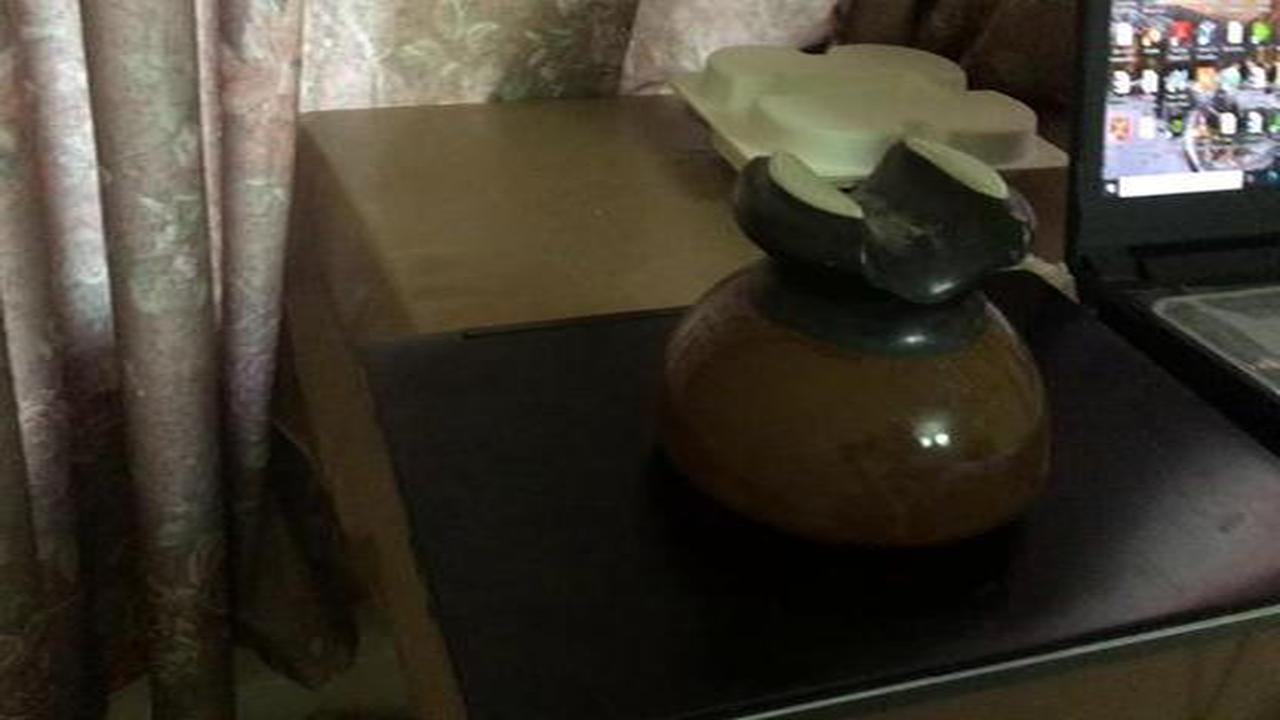insulator_pin: (625, 129, 1081, 561)
